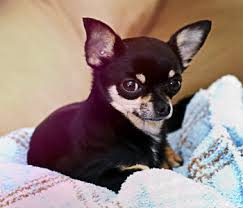chihuahua: (23, 12, 221, 184)
